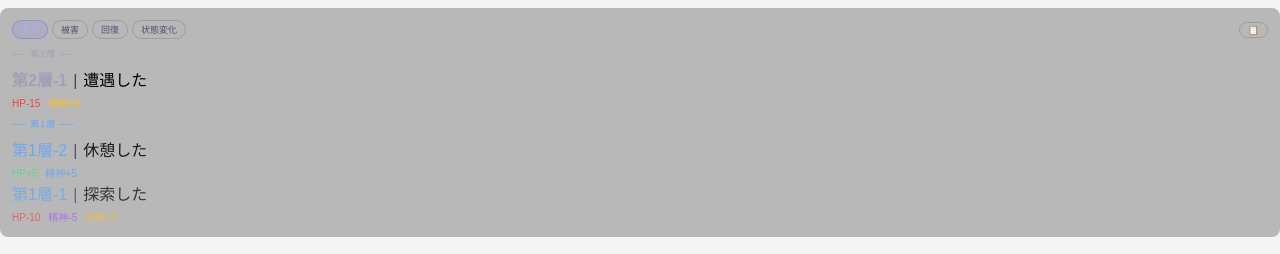
LogPanel › フィルタリング › 状態変化フィルターをクリックするとフラグ付きログのみ表示される
Click the button "状態変化".
click(159, 30)  # box [132,20,186,39]
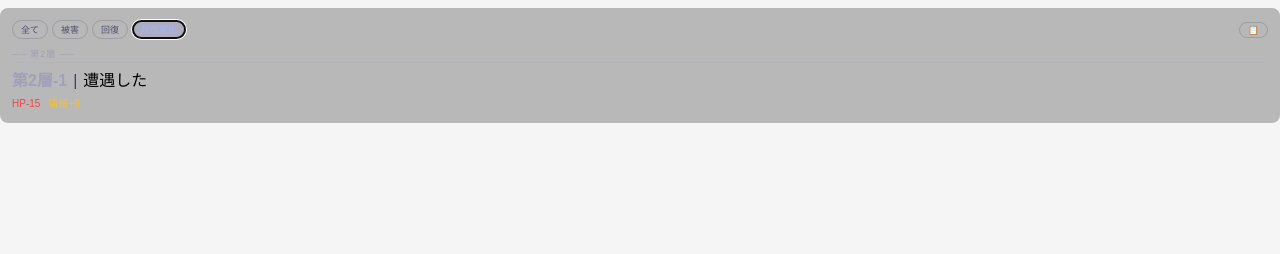
Expected: the text "遭遇した" is shown, [83,72,147,89]
Result: the text "探索した" is gone
Result: the text "休憩した" is gone
